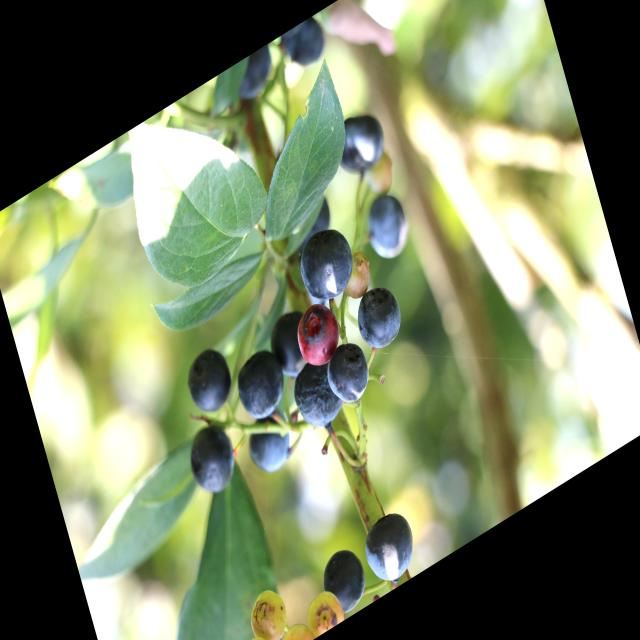blueberry: (288, 210, 365, 319), (177, 406, 247, 512), (282, 340, 352, 446), (328, 92, 398, 192), (224, 334, 293, 434), (355, 498, 423, 596), (356, 177, 421, 276), (309, 534, 376, 630), (347, 270, 412, 367), (177, 334, 241, 427), (239, 398, 301, 488), (318, 329, 378, 418), (261, 302, 318, 393), (284, 186, 342, 260), (278, 10, 334, 83), (226, 42, 282, 113)
blueberry-halfripe: (292, 291, 345, 374)
blueberry-unripe: (245, 581, 293, 640), (301, 582, 346, 640), (338, 247, 376, 306), (274, 611, 317, 640), (233, 629, 280, 640)
